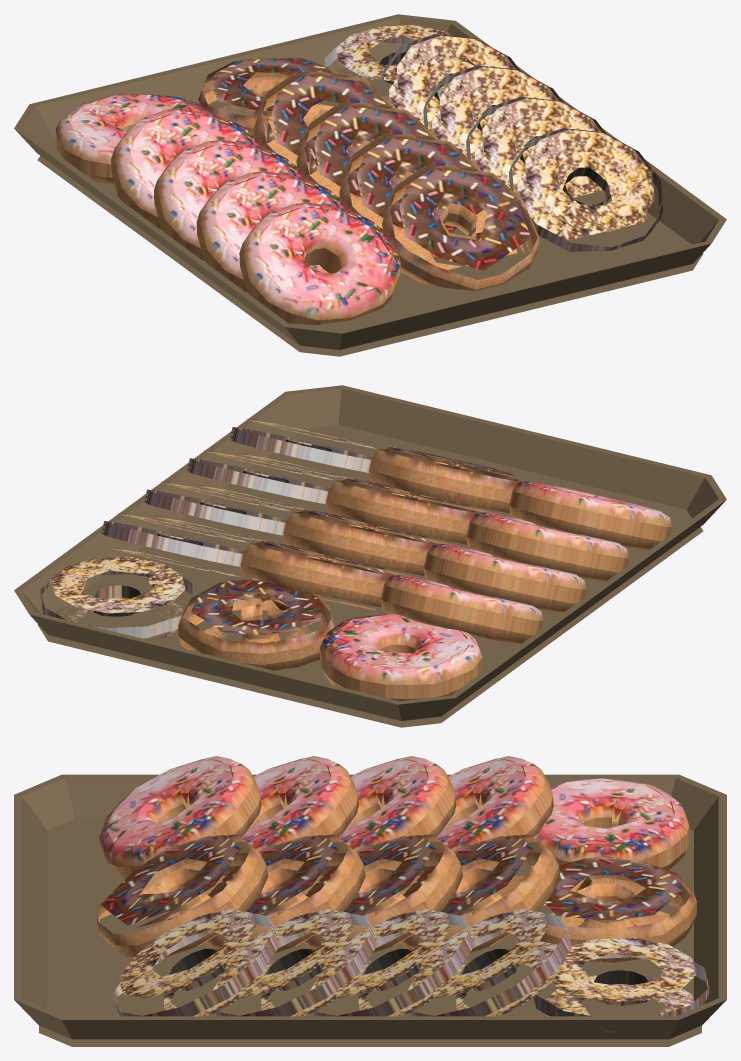
The model's file is donuts.glb.
The picture shows the model from 3 angles, top to bottom: view 1: azimuth 30°, elevation 25°; view 2: azimuth 150°, elevation 25°; view 3: azimuth 270°, elevation 25°; orthographic projection. The views are drawn at different scales.
Visible parts, largest first — view 1: donuts; view 2: donuts; view 3: donuts.
Boxes of the visible parts, bbox=[...] form: donuts: bbox=[14, 14, 726, 356]; donuts: bbox=[14, 385, 726, 727]; donuts: bbox=[14, 756, 726, 1046].
Size of the model in its own units: 0.4445 by 0.0853 by 0.5461.
Materials: 3 (2 with a texture image).
